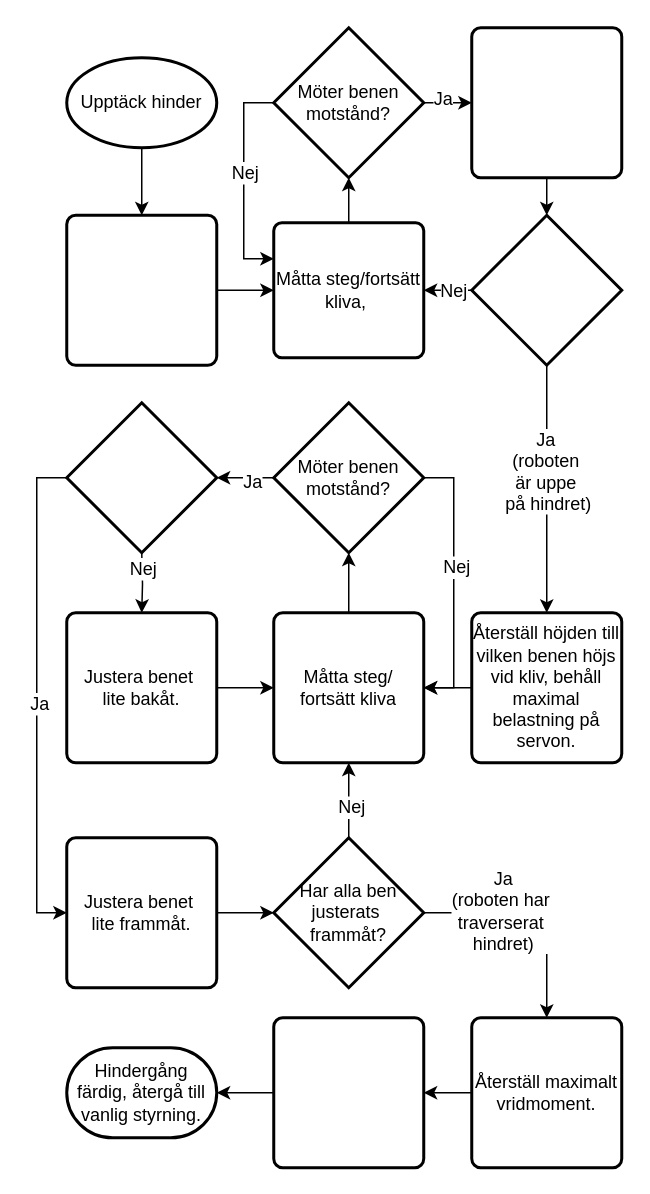
Image size: 650x1194. Some labels were removed from this diagram. The shapes that lost their labels are listed below. From the top down, each one's box as (x1, y1, x2, y2) in pixels, then its label:
(470, 26, 622, 178): Gör en liten förflyttning frammåt av benet, sätt nedan ned foten.
(64, 213, 218, 366): Sätt maximalt vricmoment på servon, öka markant höjning av ben vid steg.
(470, 213, 622, 366): Har alla ben bestigit hindret?
(64, 400, 218, 554): Har benet sänkts påtagligt?
(272, 1016, 424, 1168): Inta slutposition (hårdkodad ställning, upprätning av robot).
